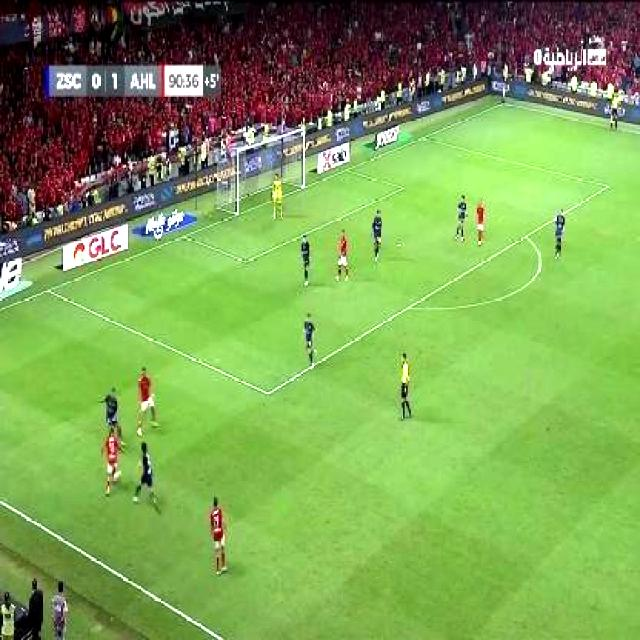bigarea_bottom_inner: (262, 382, 276, 403)
bigarea_bottom_outter: (38, 280, 58, 302)
bigarea_top_inner: (598, 177, 616, 197)
bigarea_top_outter: (418, 130, 434, 144)
bottom_arc_area_intersection: (400, 297, 423, 320)
corner: (497, 102, 512, 109)
smallarea_bottom_inner: (238, 252, 251, 268)
smallarea_bottom_outter: (178, 229, 191, 243)
smallarea_top_inner: (394, 180, 412, 198)
smallarea_top_outter: (341, 161, 354, 177)
top_arc_area_intersection: (520, 229, 534, 245)
